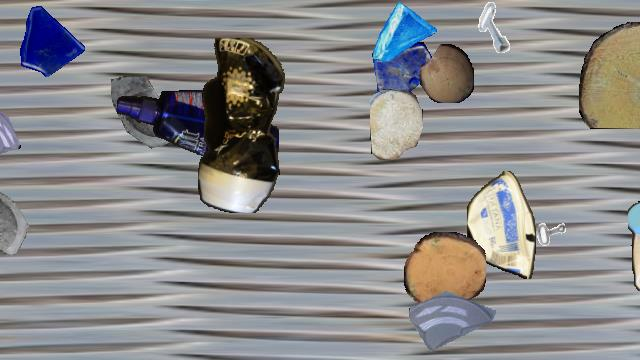glass: (409, 273, 495, 359), (109, 76, 195, 162), (11, 1, 87, 77), (370, 42, 436, 108), (371, 1, 437, 67), (0, 182, 41, 266), (0, 101, 23, 159)
metal: (517, 193, 575, 251), (470, 1, 522, 53)
plastic: (198, 38, 286, 212), (117, 90, 279, 172), (467, 171, 535, 279), (628, 200, 640, 346)
wood: (579, 22, 640, 128), (404, 232, 486, 310), (370, 89, 422, 159), (420, 44, 474, 102)
